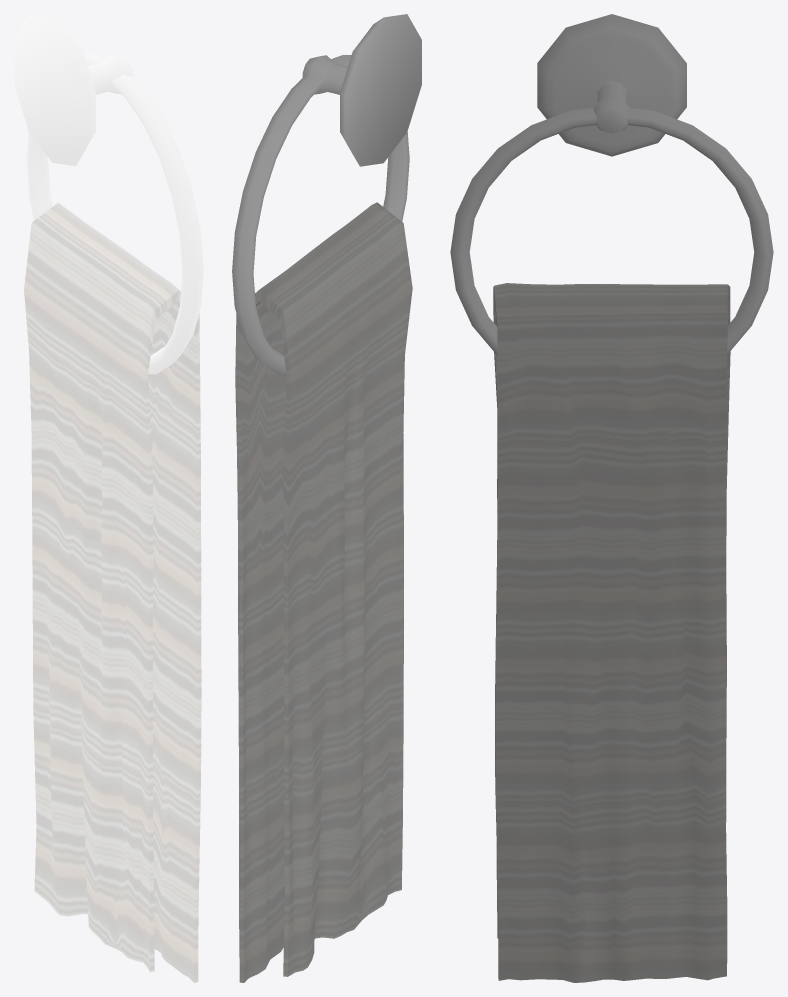
File: HandTowelHolder_7082c9e6.obj
3 views of the same model, side by side, from view 1: azimuth 30°, elevation 25°; view 2: azimuth 150°, elevation 25°; view 3: azimuth 270°, elevation 25° (orthographic). The views are drawn at different scales.
Visible parts, largest first — view 1: FP401:Base16_66343ef6, HandTowelHolderMesh_afc22833; view 2: FP401:Base16_66343ef6, HandTowelHolderMesh_afc22833; view 3: FP401:Base16_66343ef6, HandTowelHolderMesh_afc22833.
Part boxes in pixels (bbox=[...]): FP401:Base16_66343ef6: bbox=[24, 202, 201, 982]; HandTowelHolderMesh_afc22833: bbox=[14, 14, 203, 374]; FP401:Base16_66343ef6: bbox=[235, 202, 412, 982]; HandTowelHolderMesh_afc22833: bbox=[232, 14, 421, 375]; FP401:Base16_66343ef6: bbox=[493, 283, 730, 982]; HandTowelHolderMesh_afc22833: bbox=[450, 14, 773, 354].
Bounding box in the file's own units: 0.0556 × 0.5356 × 0.1696.
